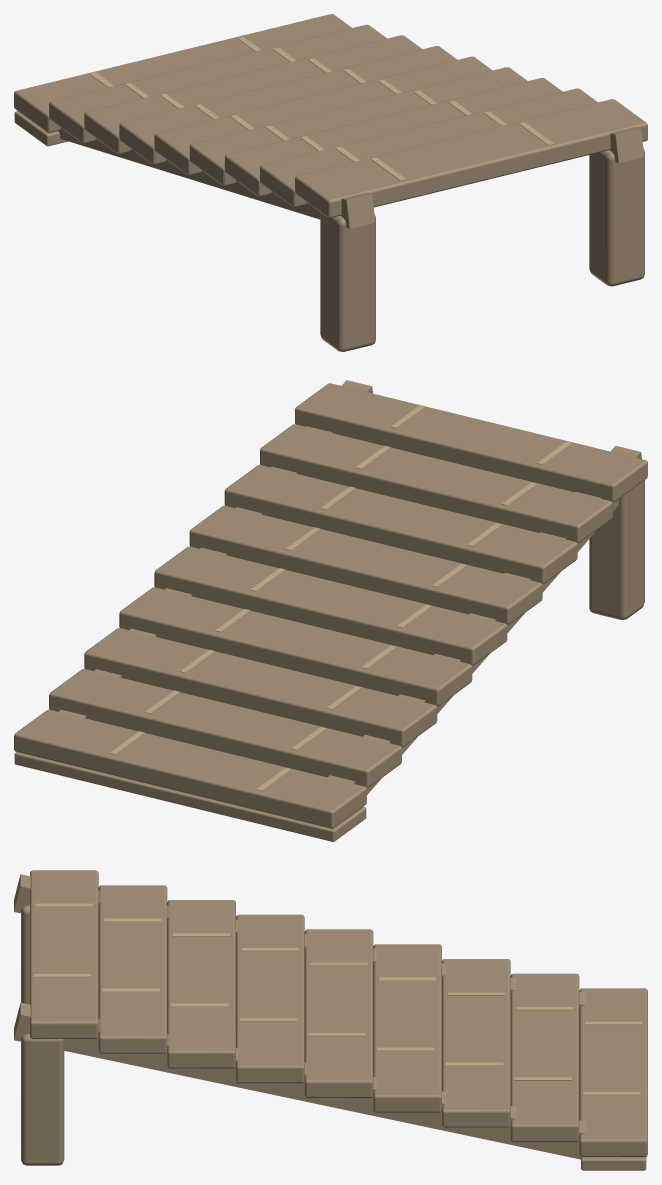
The model's file is coastal-saltworks-and-trade-port-coastal-saltworks-and-b27eb142__31403.glb.
3 renders of one model, top to bottom at view 1: azimuth 30°, elevation 25°; view 2: azimuth 150°, elevation 25°; view 3: azimuth 270°, elevation 25°, orthographic. The views are drawn at different scales.
Visible parts, largest first — view 1: coastal-saltworks-and-trade-port-cart-loading-ramp; view 2: coastal-saltworks-and-trade-port-cart-loading-ramp; view 3: coastal-saltworks-and-trade-port-cart-loading-ramp.
Boxes of the visible parts, x1,y1,x2,y2 form: coastal-saltworks-and-trade-port-cart-loading-ramp: (14, 14, 647, 351); coastal-saltworks-and-trade-port-cart-loading-ramp: (14, 380, 647, 841); coastal-saltworks-and-trade-port-cart-loading-ramp: (14, 870, 647, 1170).
Size of the model in its own units: 1 by 0.4728 by 1.75.
